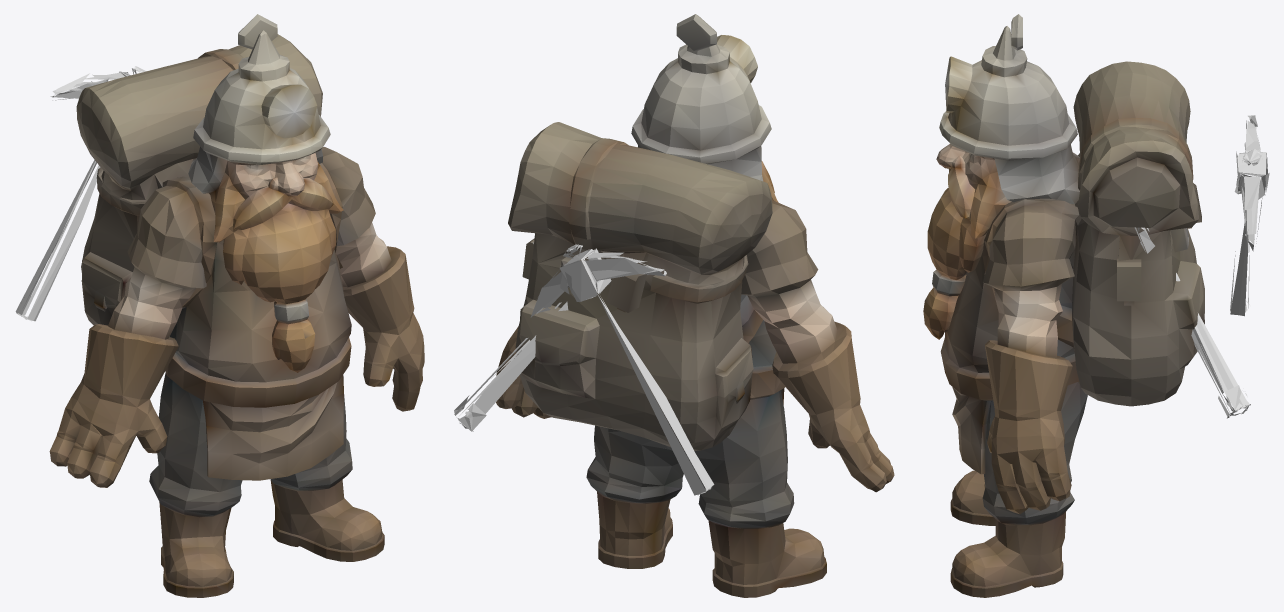
The model's file is gatherers.glb.
3 views of the same model, side by side, from view 1: azimuth 30°, elevation 25°; view 2: azimuth 150°, elevation 25°; view 3: azimuth 270°, elevation 25° (orthographic). The views are drawn at different scales.
Parts seen in each view (by area): view 1: gatherers; view 2: gatherers; view 3: gatherers.
Part boxes in pixels (x1,y1,x2,y2): gatherers: [15, 14, 424, 597]; gatherers: [454, 14, 894, 597]; gatherers: [923, 14, 1269, 597].
Size of the model in its own units: 1.15 by 1.6 by 0.9395.
